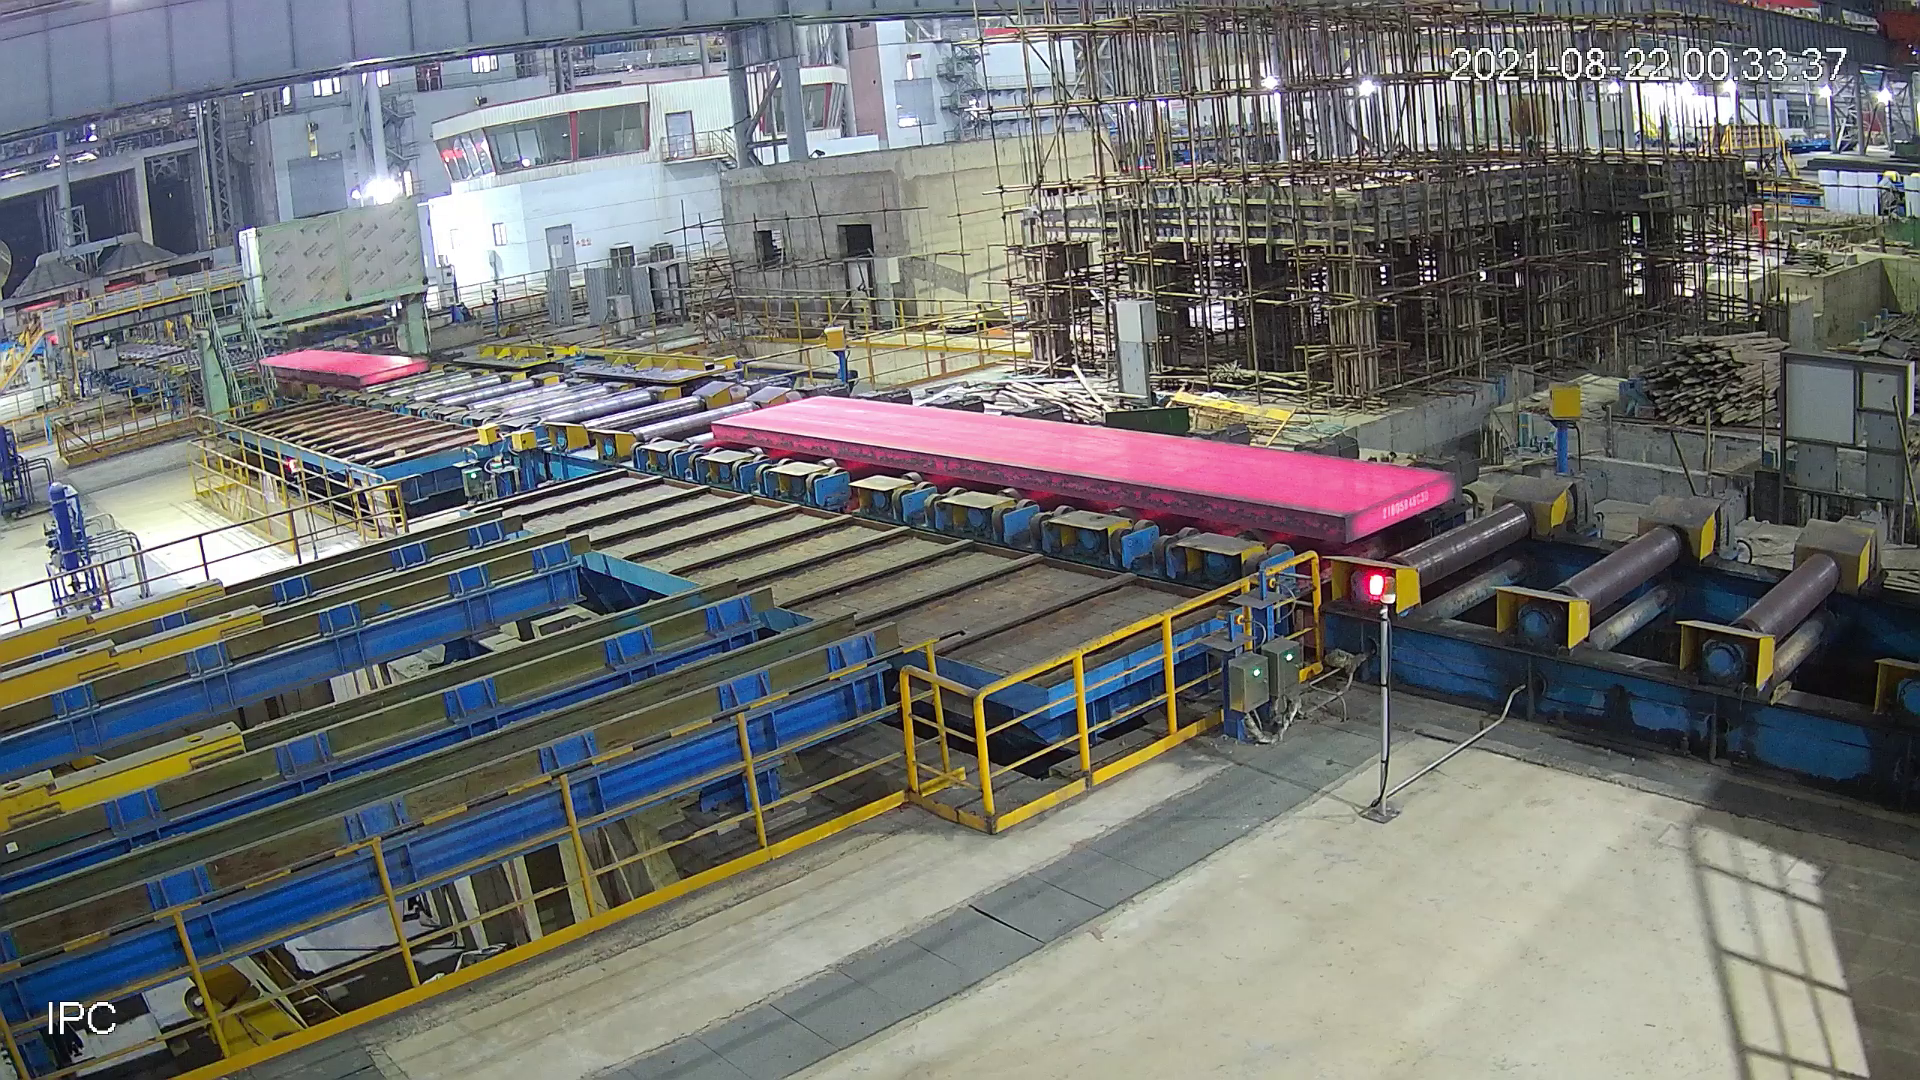slab: (708, 382, 1449, 553), (258, 342, 442, 398)
